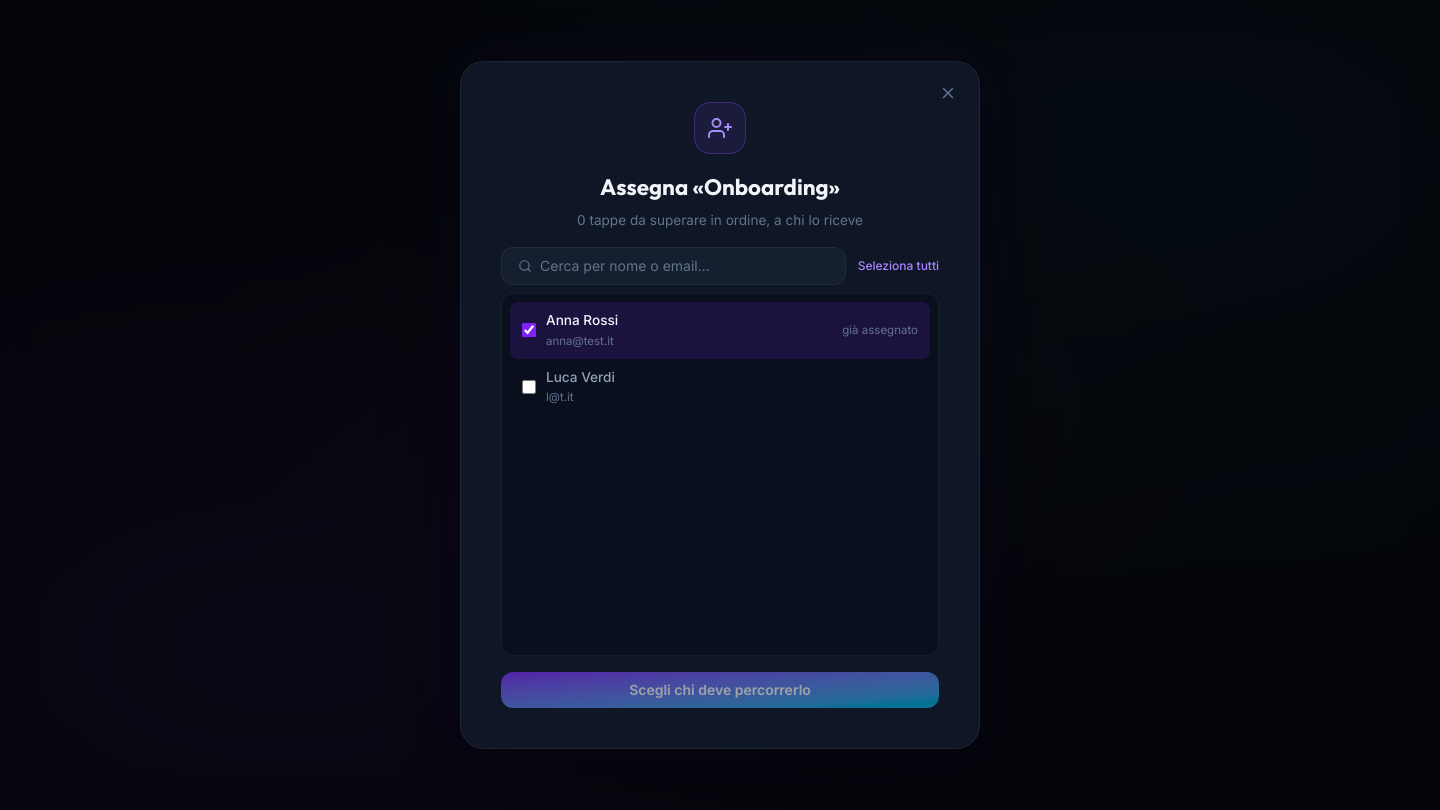
Scenario: AssignPathModal › togliere la spunta prepara il ritiro senza farlo partire
The image size is (1440, 810).
Click the checkbox labelled "Anna Rossi anna@test.it già assegnato" at (529, 330), box [522,323,536,337]
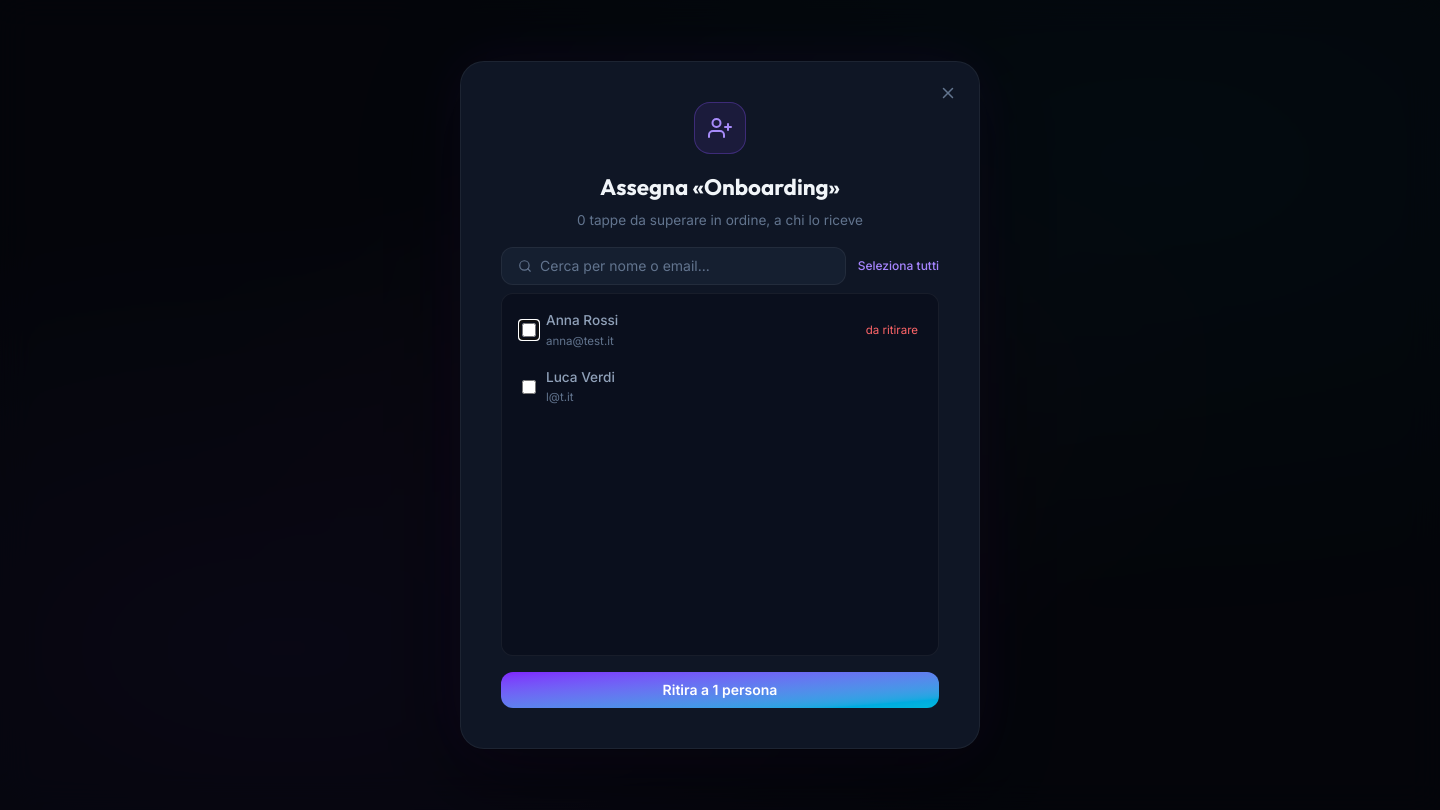
Now the checkbox labelled "Anna Rossi anna@test.it da ritirare" is not checked, box [522,323,536,337]
Now the text "da ritirare" is shown, box [866,321,918,340]
Now the button "Ritira a 1 persona" is enabled, box [501,672,939,708]
